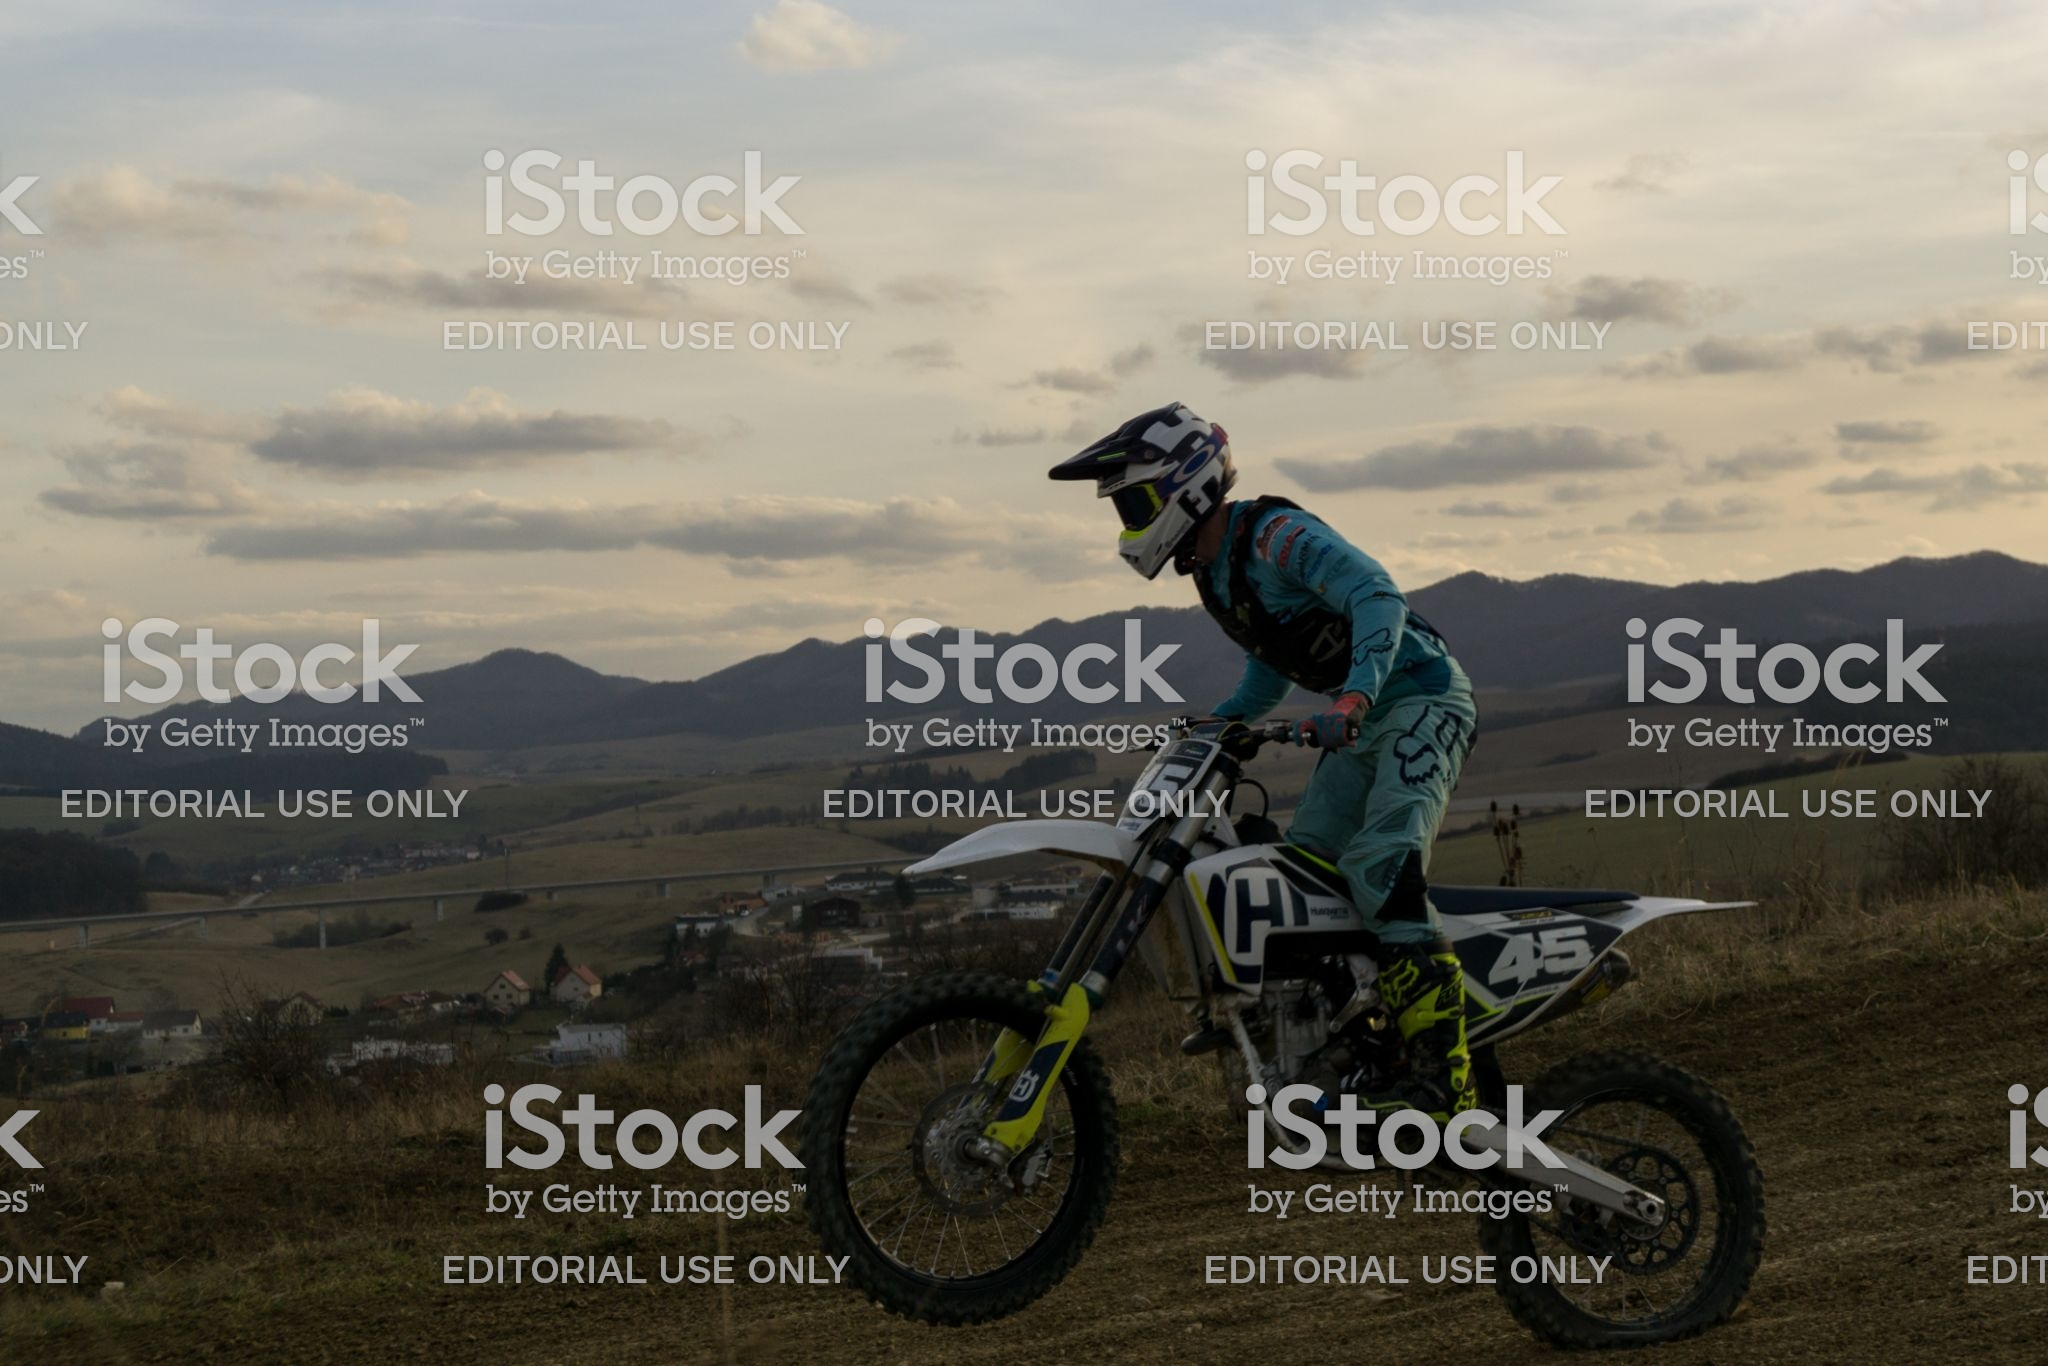helmet: (1071, 390, 1237, 561)
